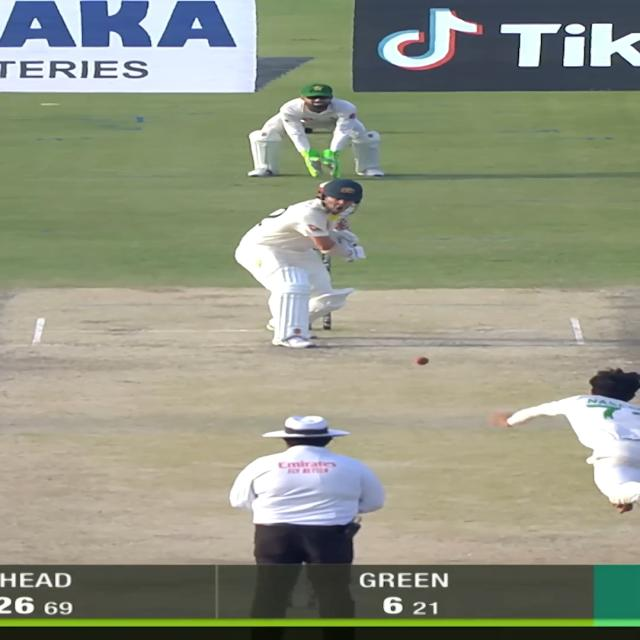Cricket ball: (414, 356, 431, 366)
